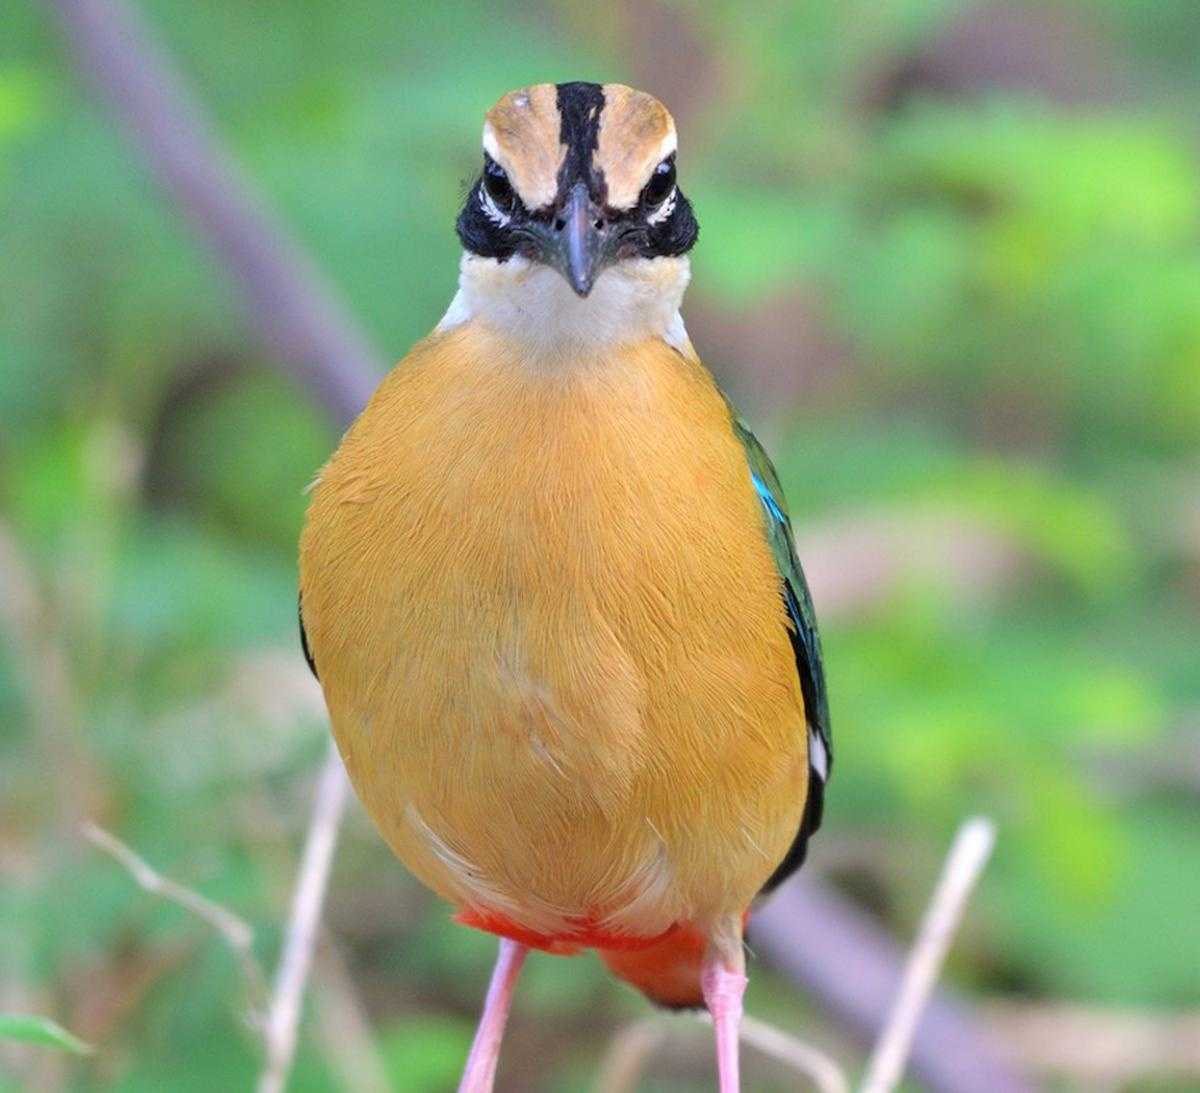pitta: (294, 73, 969, 1093)
